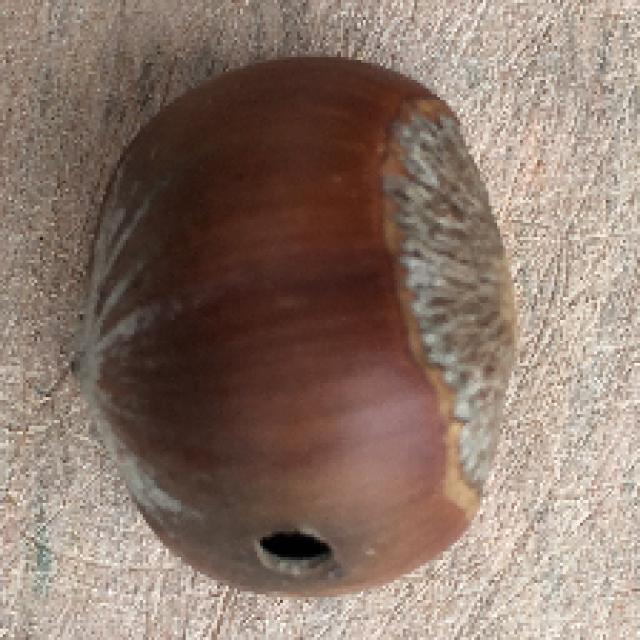damagedHazelnut: (81, 49, 516, 599)
